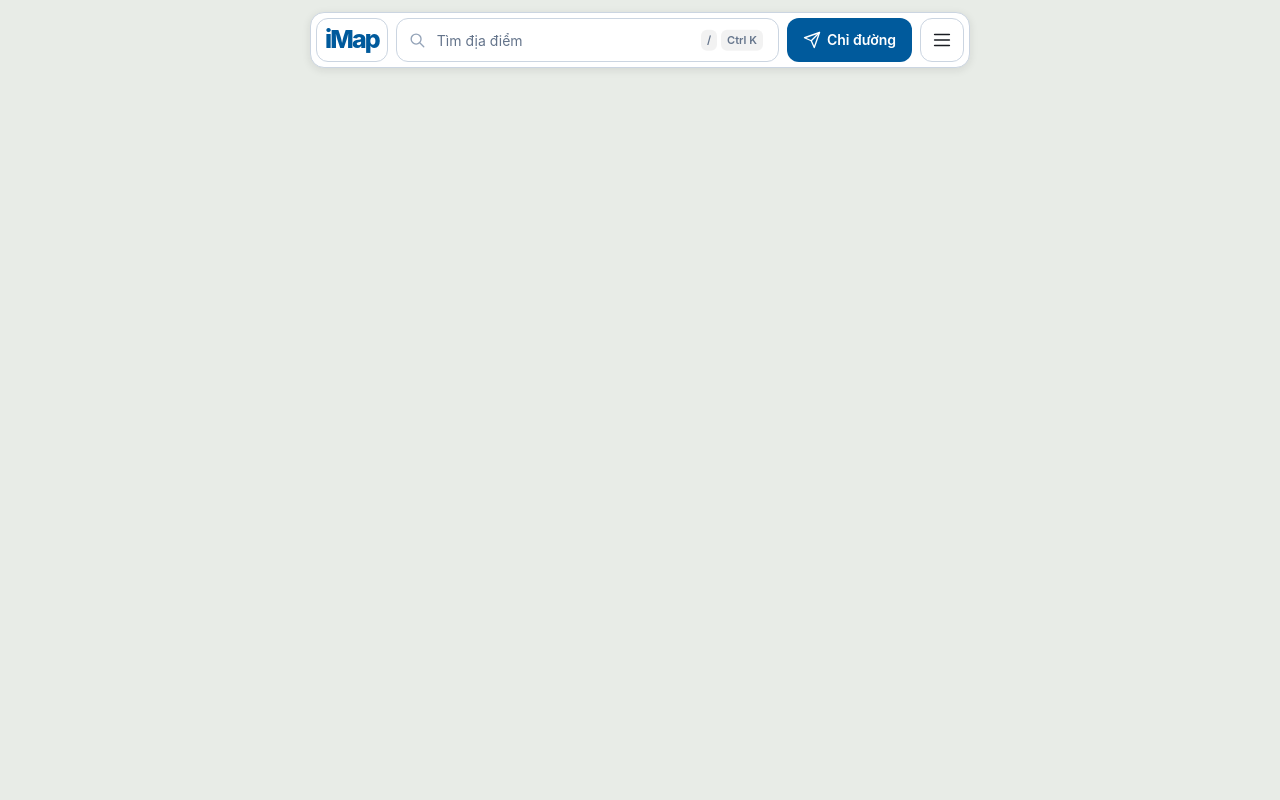
TopBar sign-in button › đã đăng nhập: hiện chữ viết tắt email như trước
Click the button named "Menu": (942, 40) [920, 18, 964, 62]
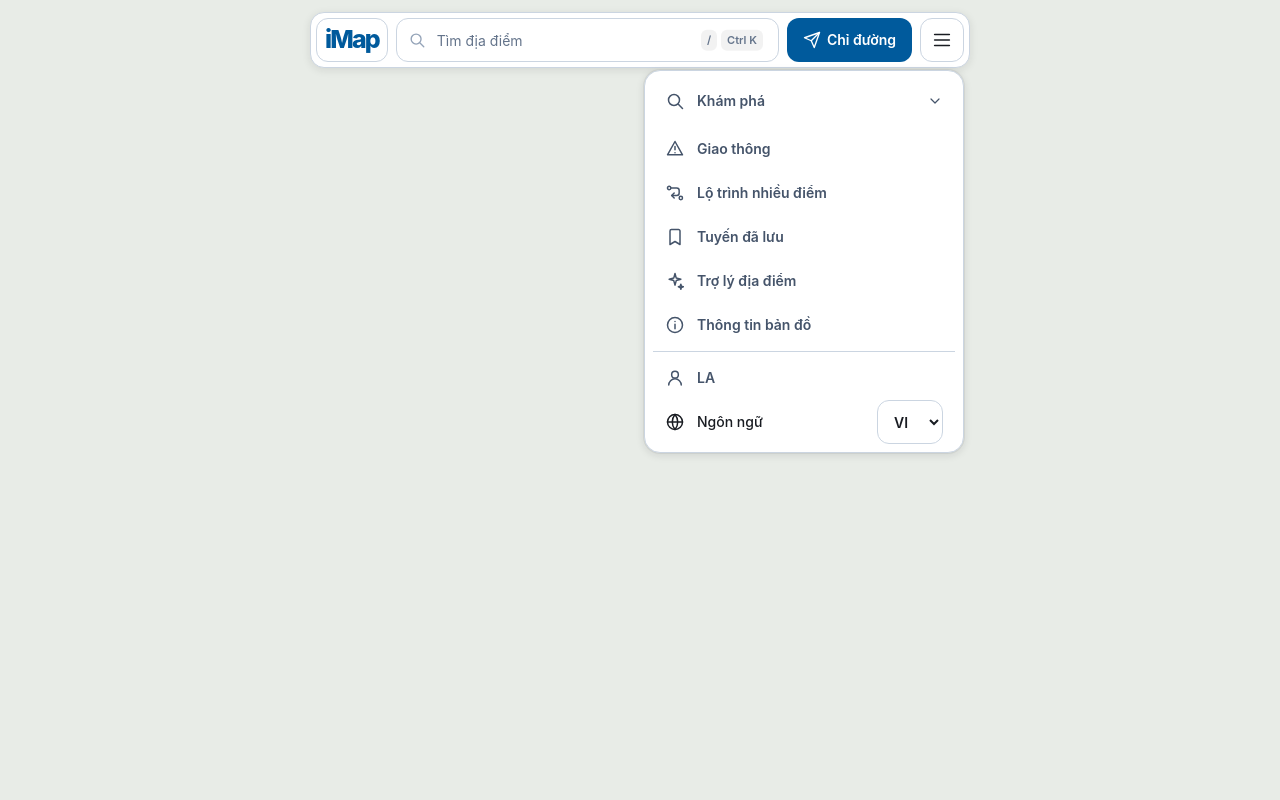
Now the link with aria-label "Tài khoản lan@example.com" reads "LA", box [665, 368, 715, 388]
